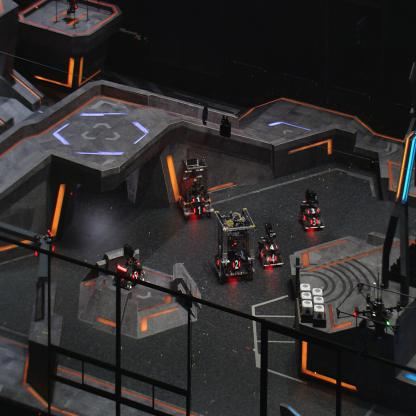car: (213, 207, 256, 280), (179, 155, 215, 218), (114, 242, 145, 288), (299, 185, 326, 233), (256, 221, 284, 267)
